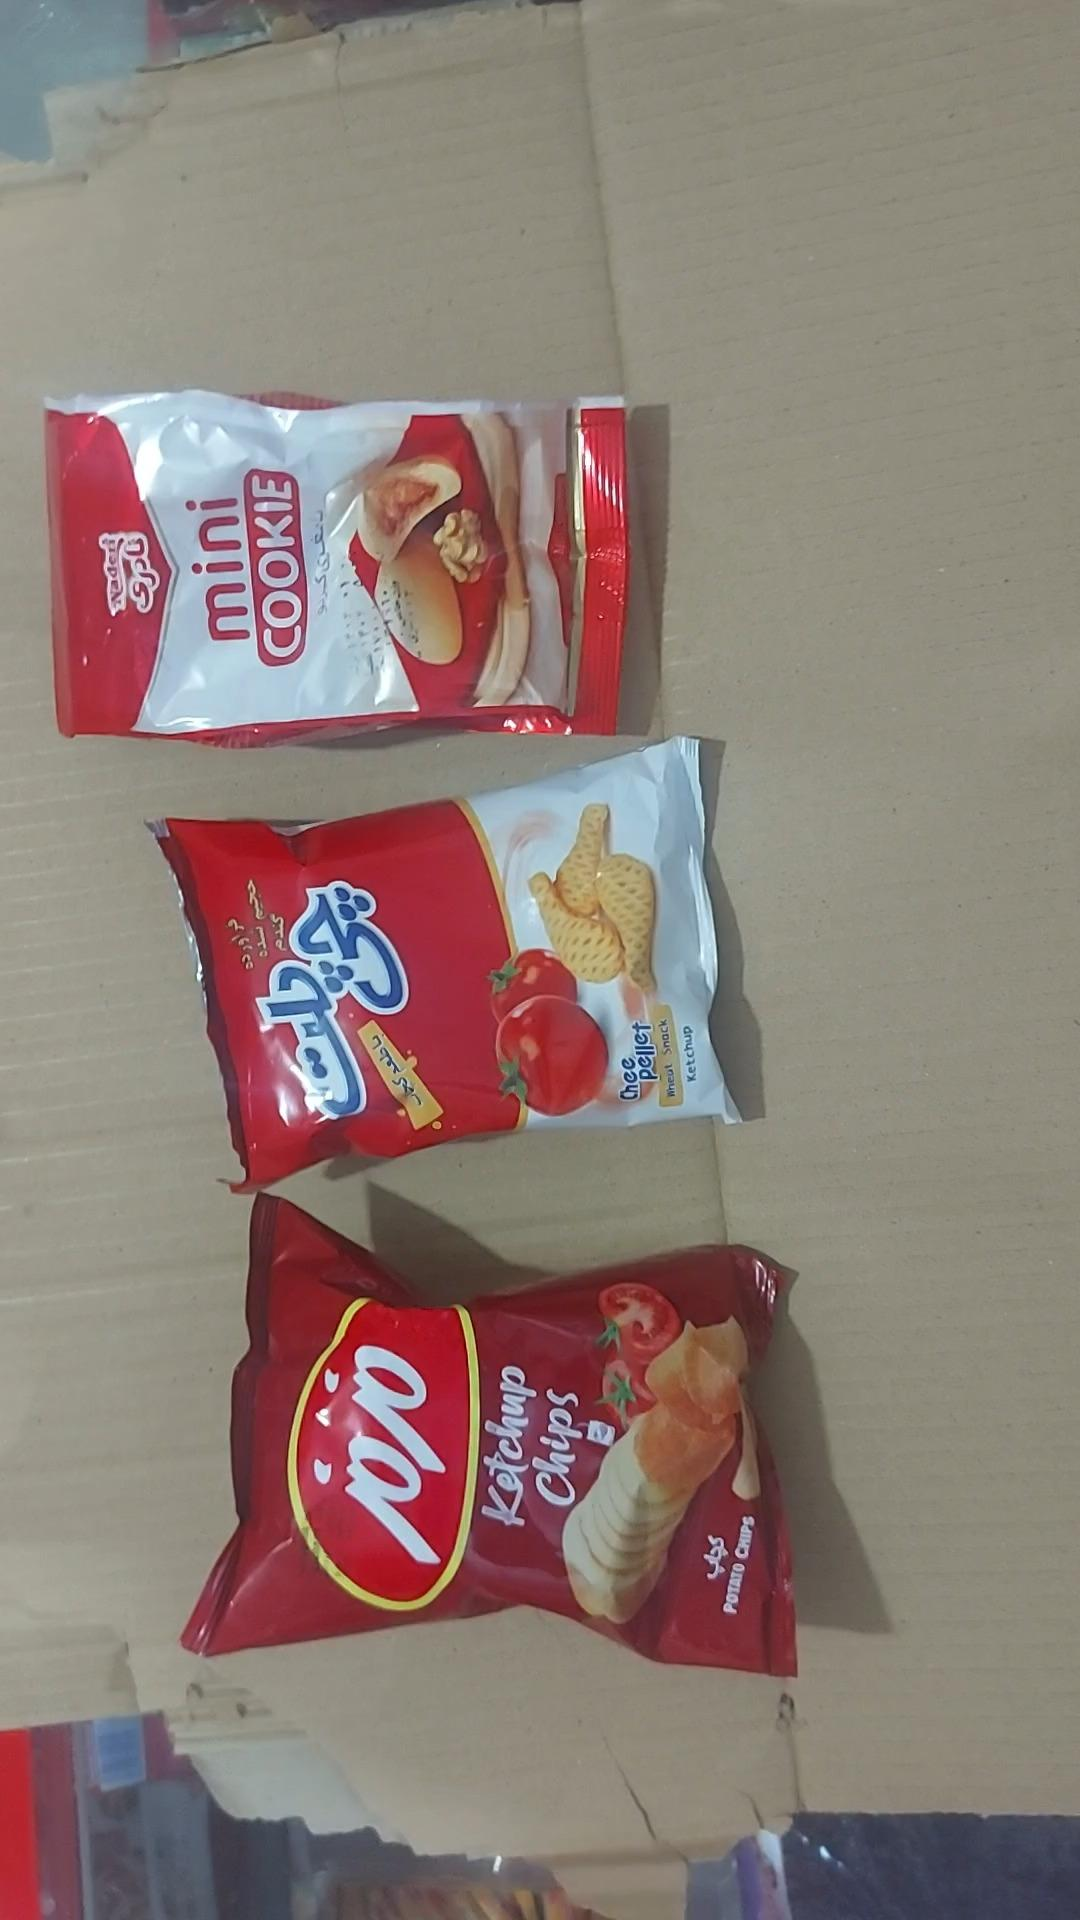Chee pellet ketchup: (146, 738, 742, 1195)
Maz Maz ketchup chips: (181, 1196, 799, 1680)
Naderi mini cookie: (42, 390, 634, 752)
